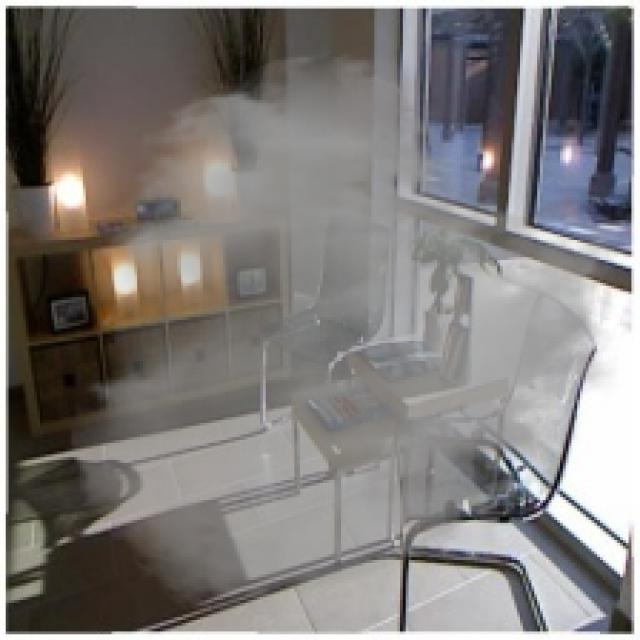smoke: (66, 49, 631, 614)
